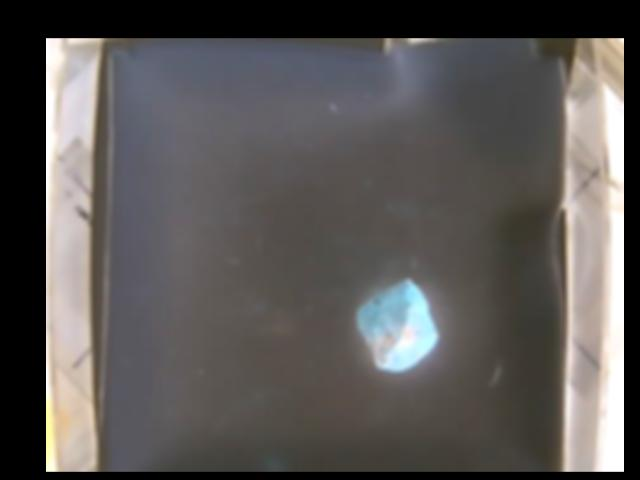Brisk: (357, 277, 439, 371)
